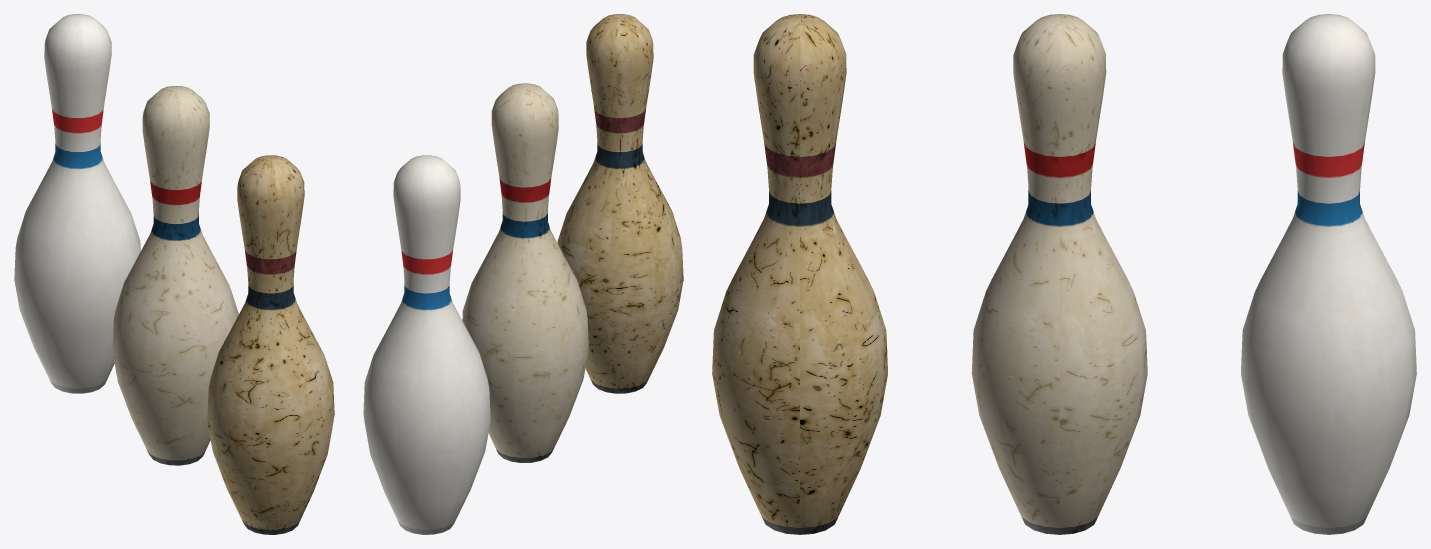
File: bowlingpins.fbx
The picture shows the model from 3 angles, left to right: view 1: azimuth 30°, elevation 25°; view 2: azimuth 150°, elevation 25°; view 3: azimuth 270°, elevation 25°; orthographic projection. The views are drawn at different scales.
Parts seen in each view (by area): view 1: bownlingpin1.002, bownlingpin1.001, bownlingpin1; view 2: bownlingpin1.001, bownlingpin1, bownlingpin1.002; view 3: bownlingpin1.001, bownlingpin1.002, bownlingpin1.
Boxes of the visible parts, x1,y1,x2,y2 form: bownlingpin1.002: (207, 155, 334, 534); bownlingpin1.001: (14, 14, 140, 393); bownlingpin1: (112, 86, 238, 465); bownlingpin1.001: (363, 155, 490, 534); bownlingpin1: (462, 83, 588, 462); bownlingpin1.002: (557, 14, 683, 393); bownlingpin1.001: (1241, 14, 1416, 534); bownlingpin1.002: (712, 14, 887, 534); bownlingpin1: (971, 14, 1147, 534).
Size of the model in its own units: 12.13 by 38.08 by 48.56.
